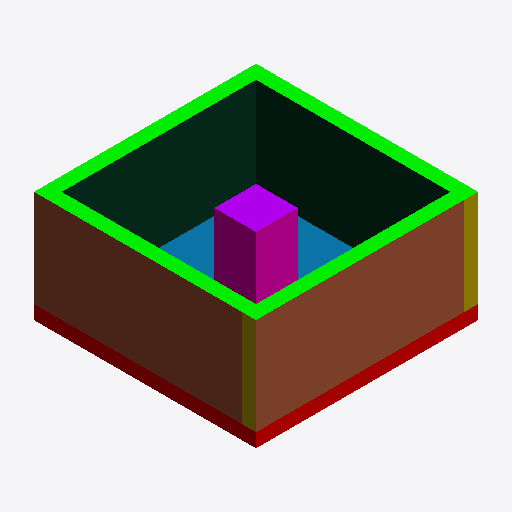
Isometric view (azimuth 45°, elevation 35.3°) of a Minecraft model made of 6 cuboids, textured from the same repository.
Parts seen in each view (by area): South Wall, West Wall, East Wall, North Wall, Bottom, Central Tube.
Boxes of the visible parts, <box> form: South Wall: <box>242,192,463,431</box>; West Wall: <box>34,184,254,423</box>; East Wall: <box>256,72,477,311</box>; North Wall: <box>48,64,269,247</box>; Bottom: <box>34,216,477,447</box>; Central Tube: <box>214,184,297,303</box>.
Bounding box in the file's own units: 16 × 8 × 16.